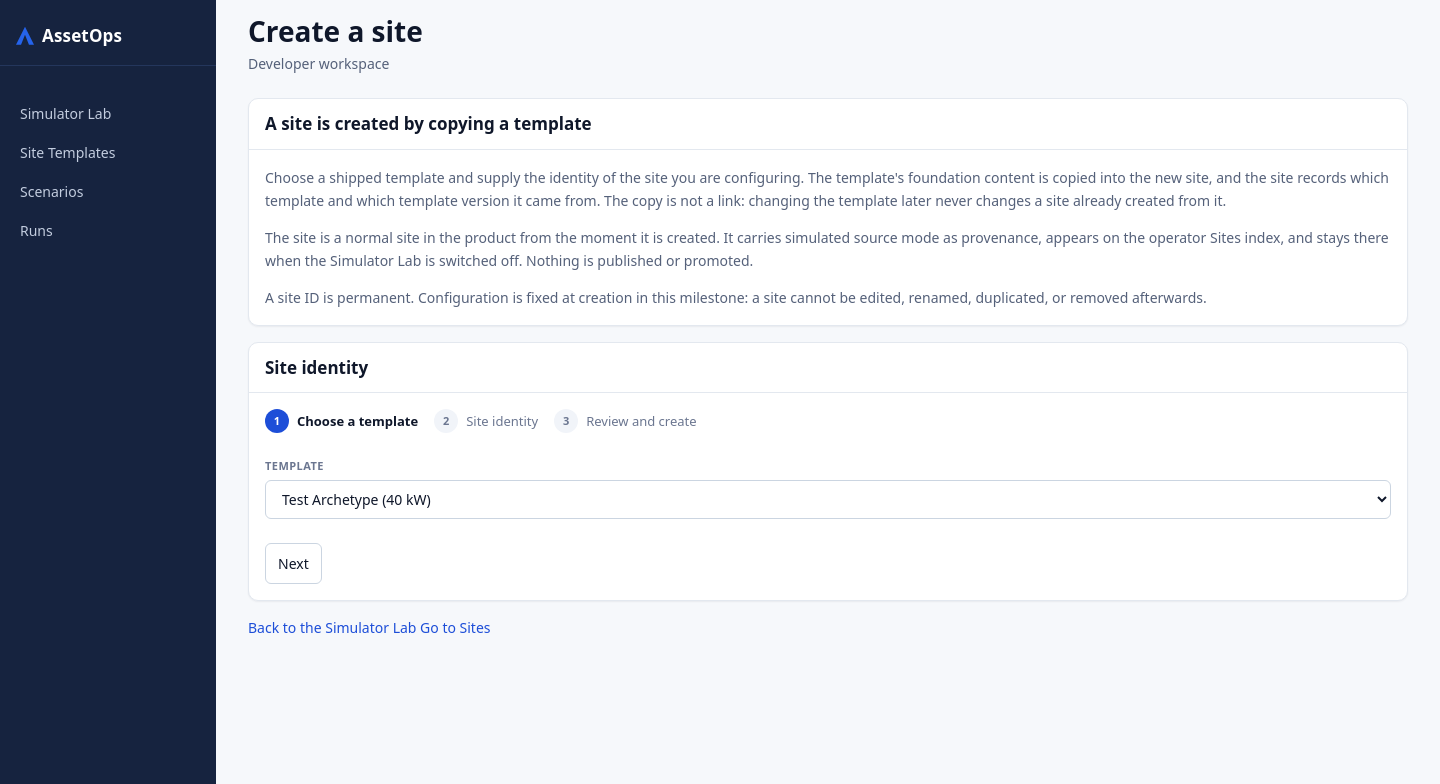
Test: refusals › shows the reason for a case-variant duplicate exactly as given
Expected: the dropdown labelled "Template" is shown, [265,480,1391,519]
Click the button "Next": [293, 563] box [265,543,322,584]
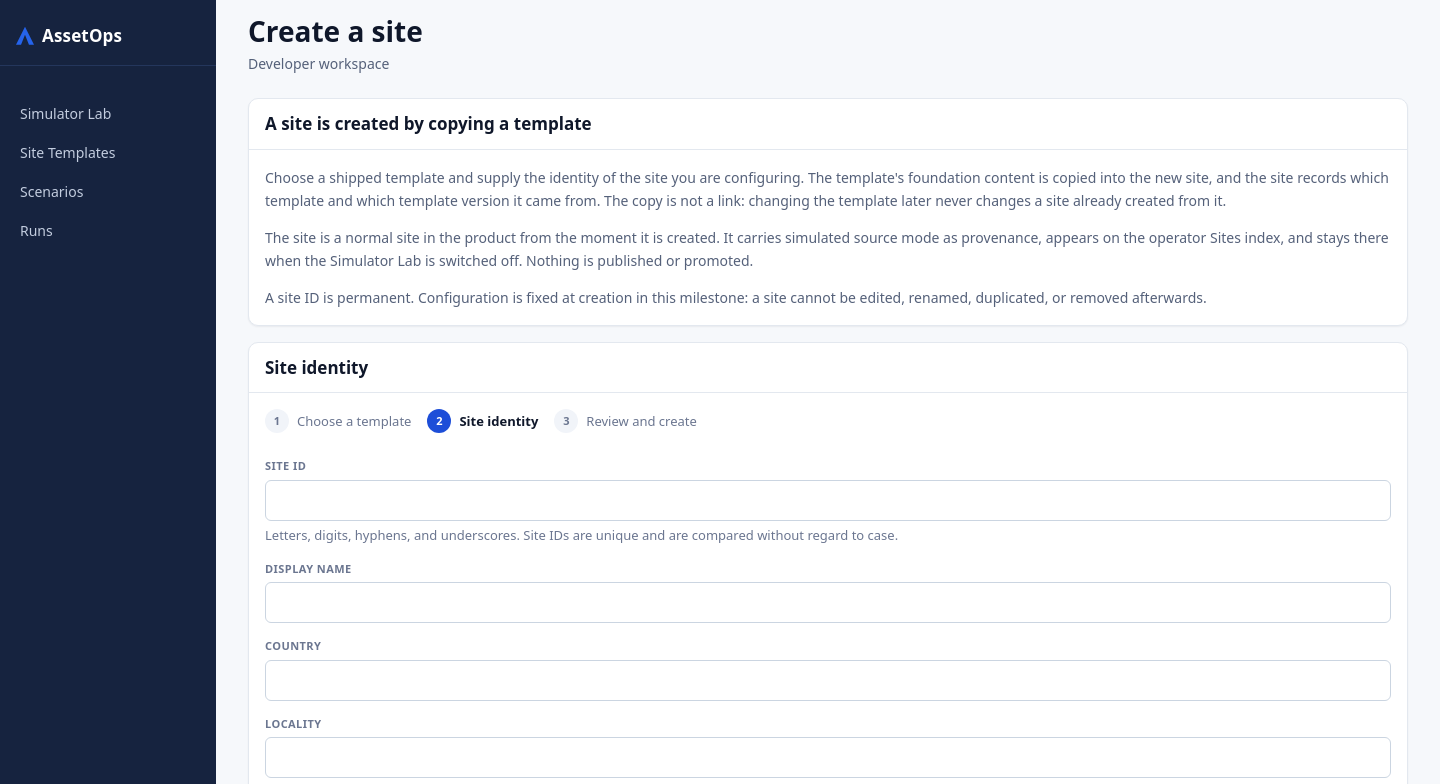
In the field labelled "Site ID": [828, 500] box [265,480,1391,521], type "MG-002"
In the field labelled "Display name": [828, 603] box [265,582,1391,623], type "Kalangala Mini-Grid"
In the field labelled "Country": [828, 680] box [265,660,1391,701], type "Uganda"
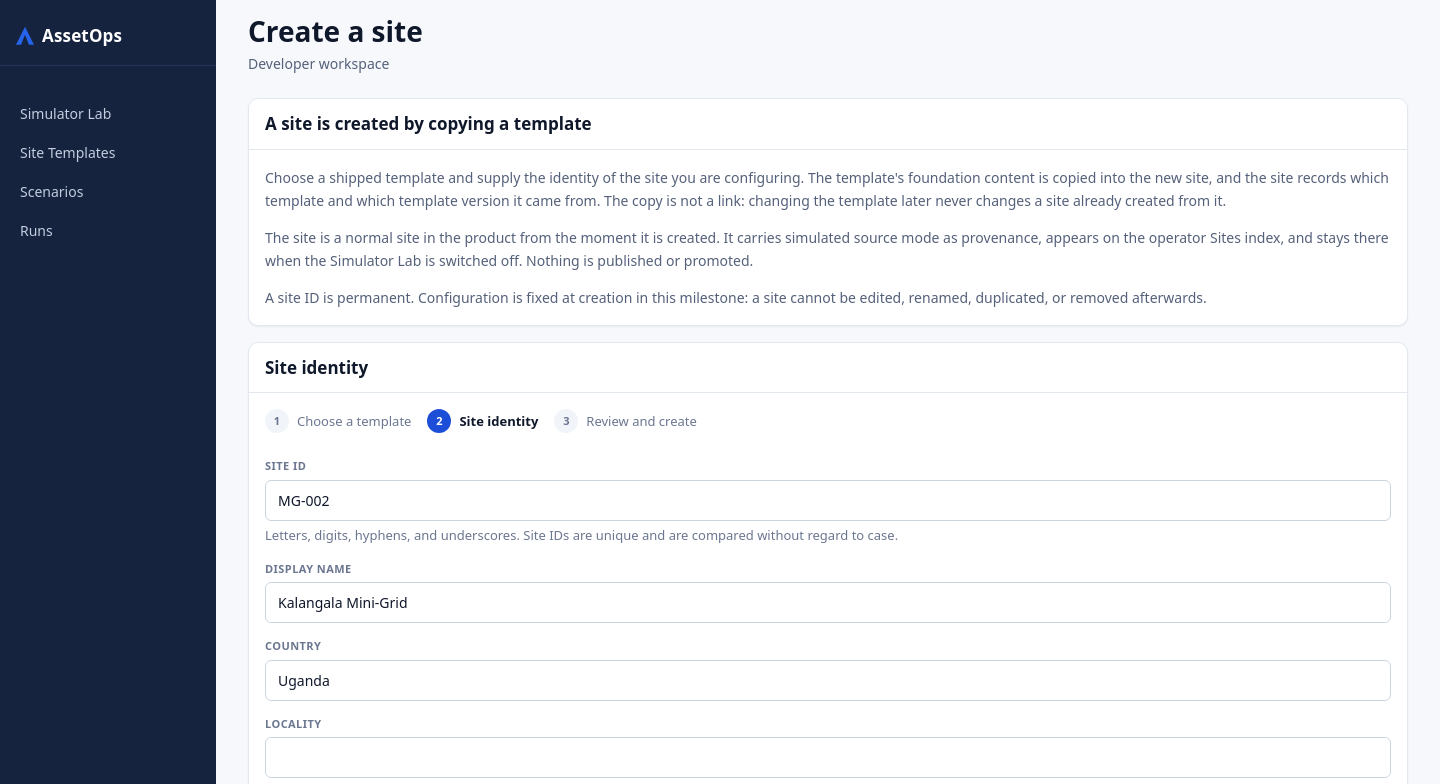
In the field labelled "Locality": [828, 757] box [265,737,1391,778], type "Kalangala"
(page scrolled)
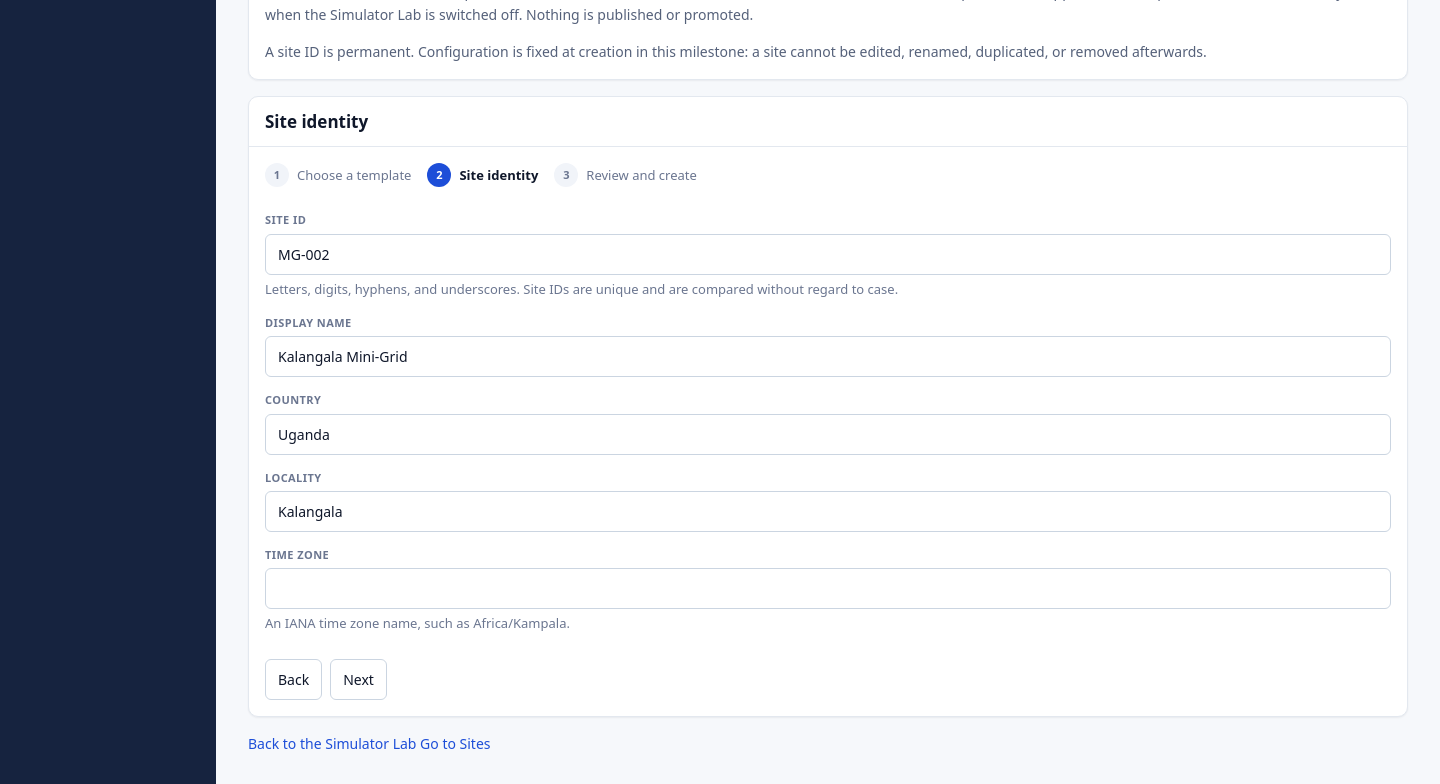
In the field labelled "Time zone": [828, 589] box [265,568,1391,609], type "Africa/Kampala"
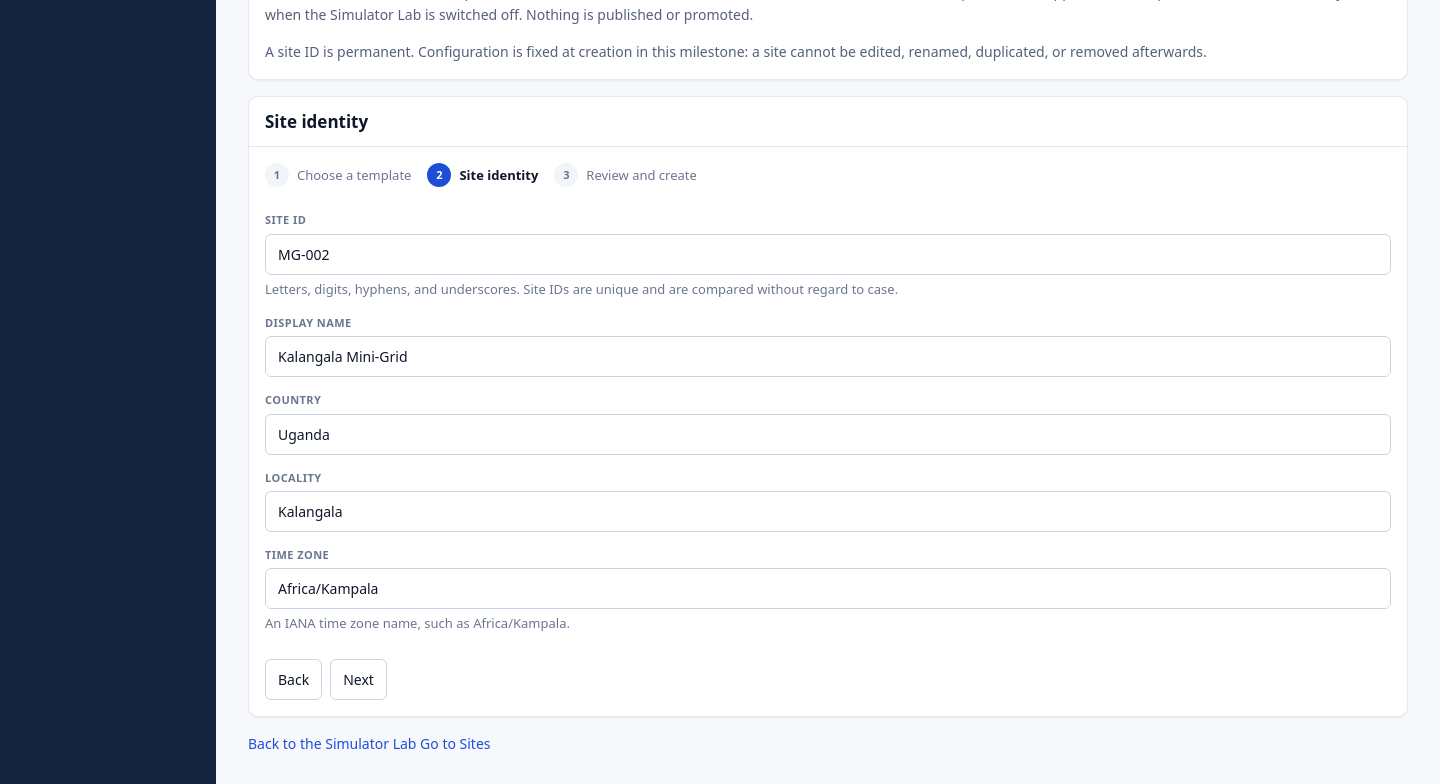
Click the button "Next": [359, 679] box [330,658,387,700]
(page scrolled)
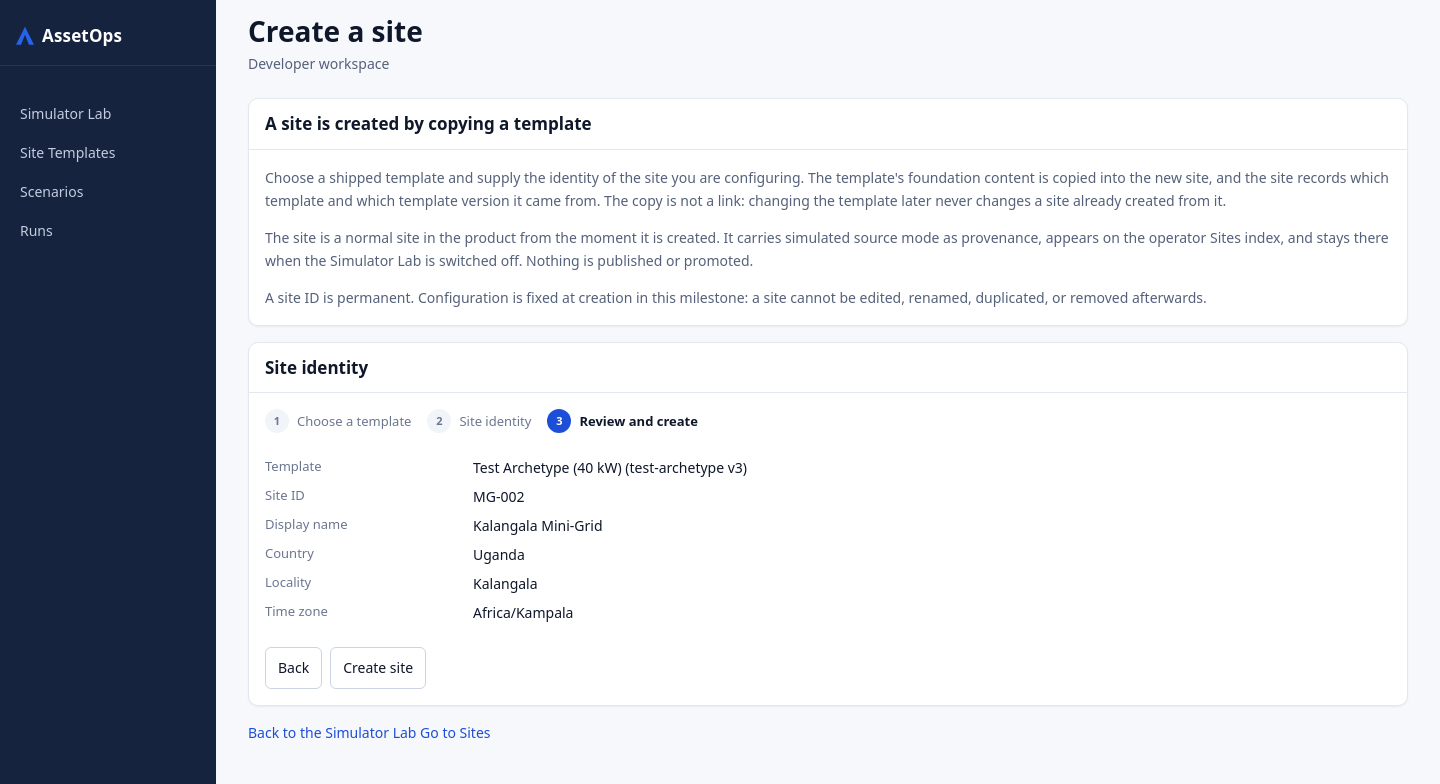
Click the button "Create site": [378, 668] box [330,648,426,689]
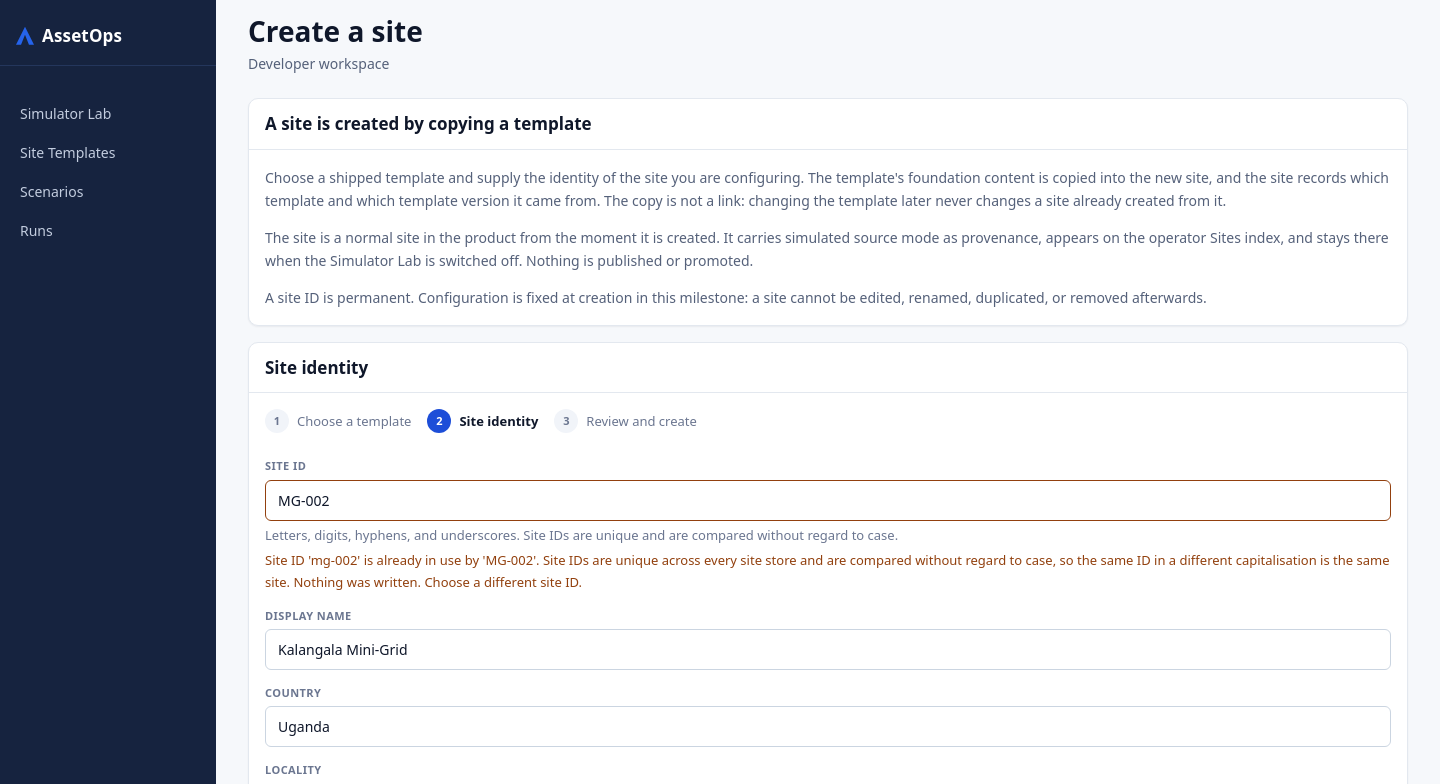
Now the message shows "Site ID 'mg-002' is already in use by 'MG-002'. Site IDs are unique across every site store and are compared without regard to case, so the same ID in a differe", box [265,551,1390,590]
